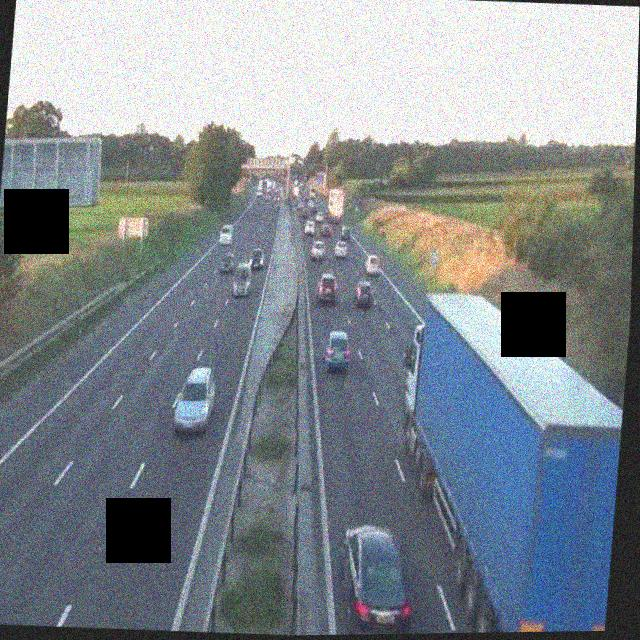car: (335, 523, 417, 635), (173, 365, 216, 435), (322, 328, 352, 371), (232, 261, 253, 296), (317, 274, 340, 305), (353, 279, 376, 309), (219, 250, 236, 274), (249, 246, 265, 271), (365, 253, 382, 276), (219, 225, 234, 246), (310, 243, 326, 262), (335, 241, 350, 260), (341, 224, 353, 240), (305, 221, 316, 237), (321, 223, 332, 239)
truck: (381, 291, 631, 634), (326, 188, 346, 222)
